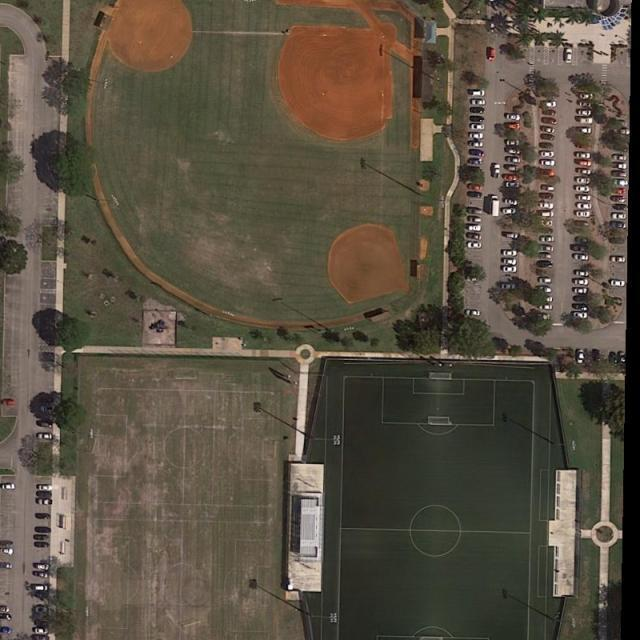vehicle: (490, 194, 500, 217), (466, 232, 483, 242), (541, 117, 559, 126), (470, 148, 486, 158), (614, 144, 630, 154), (32, 570, 49, 579), (33, 563, 50, 572), (467, 183, 484, 192), (540, 133, 557, 142), (538, 244, 555, 253), (537, 261, 554, 270), (610, 162, 629, 170), (468, 206, 483, 216), (613, 202, 628, 212), (612, 220, 627, 230), (610, 352, 620, 367), (470, 122, 486, 131), (470, 115, 486, 124), (36, 498, 54, 506), (574, 220, 590, 229), (611, 213, 627, 222), (539, 226, 555, 235), (468, 215, 482, 225), (572, 245, 589, 253), (612, 170, 629, 178), (539, 169, 556, 177), (537, 202, 554, 210), (537, 210, 554, 218), (535, 286, 552, 294), (574, 311, 589, 320), (611, 194, 626, 203), (538, 219, 553, 228), (470, 90, 486, 98), (612, 119, 628, 127), (2, 398, 18, 406), (38, 421, 54, 429), (573, 295, 589, 303), (573, 303, 589, 311), (613, 178, 629, 186), (610, 255, 626, 263), (465, 309, 481, 317), (540, 150, 556, 158), (613, 153, 627, 162), (612, 186, 626, 195), (593, 349, 602, 363), (470, 132, 485, 140), (471, 98, 486, 106), (34, 534, 49, 542), (468, 158, 483, 166), (574, 254, 589, 262), (542, 109, 557, 117), (542, 101, 557, 109), (577, 159, 592, 167), (539, 142, 554, 150), (503, 250, 518, 258), (577, 350, 585, 365), (566, 48, 573, 65), (34, 526, 51, 533), (34, 591, 47, 600), (574, 238, 593, 244), (609, 238, 625, 245), (470, 107, 486, 114), (488, 48, 496, 62), (37, 433, 53, 440), (35, 491, 51, 498), (578, 202, 592, 210), (577, 210, 591, 218), (506, 114, 520, 122), (502, 207, 516, 215), (502, 259, 518, 266), (468, 242, 482, 250), (41, 405, 56, 412), (36, 513, 51, 520), (574, 279, 589, 286), (573, 288, 588, 295), (610, 280, 625, 287), (506, 157, 521, 164), (506, 182, 521, 189), (467, 225, 482, 232), (542, 159, 557, 166), (540, 185, 555, 192), (539, 193, 554, 200), (536, 314, 551, 321), (539, 304, 554, 311), (1, 548, 14, 556), (1, 626, 14, 634), (577, 194, 590, 202), (542, 126, 555, 134), (504, 174, 517, 182), (505, 198, 518, 206), (504, 266, 517, 274), (33, 634, 50, 640), (33, 542, 50, 548), (467, 192, 484, 198), (613, 129, 630, 135), (469, 141, 483, 148), (34, 627, 48, 634), (34, 620, 48, 627), (575, 270, 589, 277), (502, 283, 516, 290), (541, 235, 555, 242), (507, 123, 521, 130), (581, 94, 594, 101), (580, 101, 593, 108), (578, 110, 591, 117), (494, 165, 501, 178), (576, 178, 591, 184), (506, 148, 521, 154), (506, 140, 521, 146), (537, 254, 552, 260), (538, 278, 553, 284), (539, 297, 554, 303), (620, 352, 626, 367), (1, 562, 12, 570), (35, 606, 46, 614), (2, 484, 16, 490), (38, 485, 52, 491), (577, 169, 591, 175), (576, 186, 590, 192), (577, 153, 591, 159), (577, 128, 591, 134), (507, 166, 521, 172), (466, 276, 479, 282), (33, 585, 48, 590), (578, 118, 593, 123), (506, 233, 520, 238), (1, 613, 10, 620), (1, 606, 10, 613)
